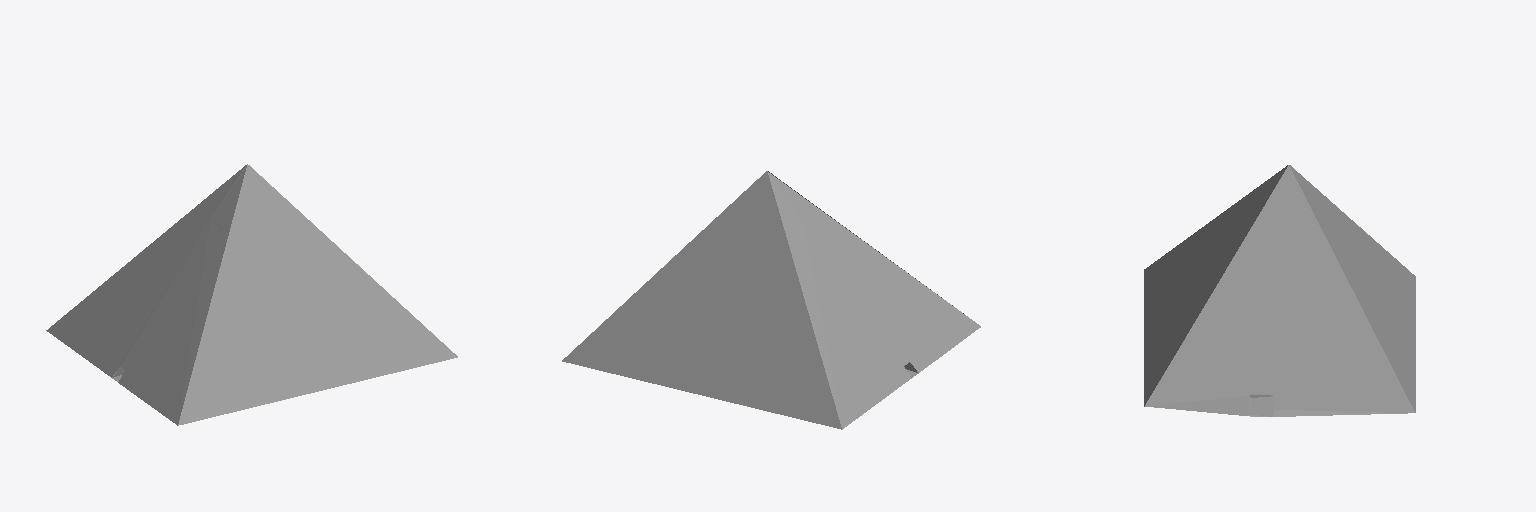
The model's file is PuzzlePyramidExport.obj.
The picture shows the model from 3 angles: view 1: azimuth 30°, elevation 25°; view 2: azimuth 150°, elevation 25°; view 3: azimuth 270°, elevation 25°; orthographic projection.
Parts seen in each view (by area): view 1: Cube.000; view 2: Cube.000; view 3: Cube.000.
Boxes of the visible parts, x1,y1,x2,y2 form: Cube.000: [46, 164, 457, 425]; Cube.000: [562, 171, 980, 429]; Cube.000: [1144, 165, 1415, 416].
Size of the model in its own units: 122 by 71.85 by 98.17.